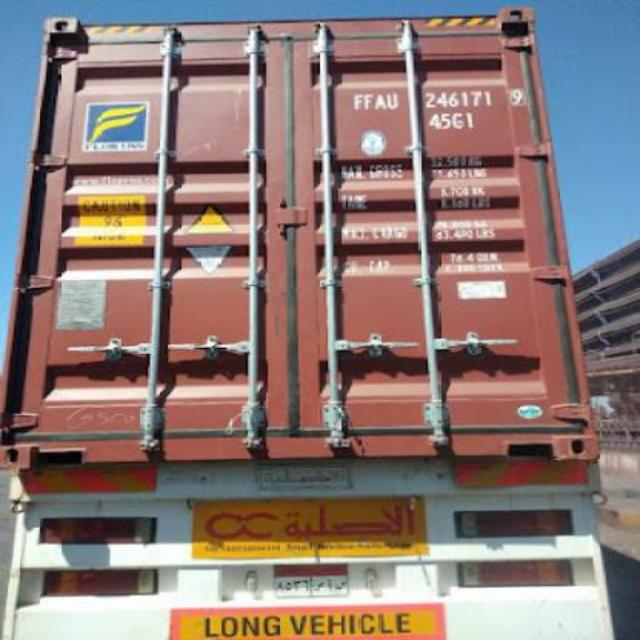1: (482, 89, 498, 115), (460, 89, 472, 113)
2: (422, 88, 434, 112)
4: (436, 88, 449, 110)
6: (448, 88, 460, 109)
7: (471, 85, 484, 111)
9: (508, 88, 526, 109)
A: (374, 92, 386, 115)
F: (348, 90, 364, 114), (364, 93, 376, 113)
U: (386, 89, 402, 113)
